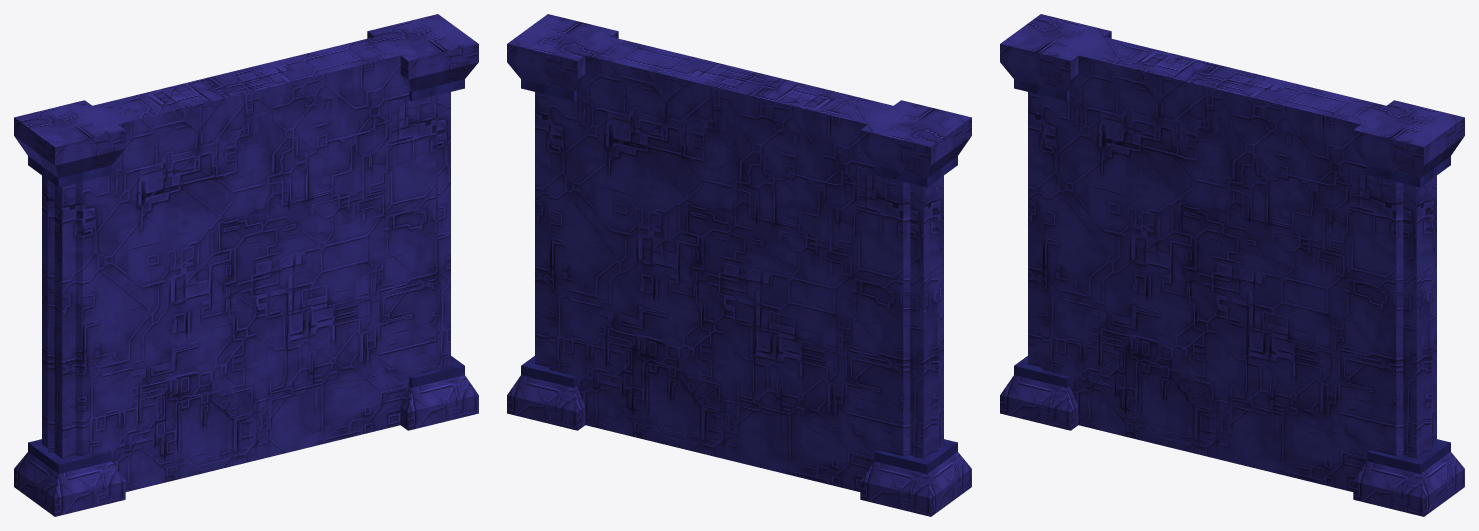
File: wall.glb
3 renders of one model, left to right at view 1: azimuth 30°, elevation 25°; view 2: azimuth 150°, elevation 25°; view 3: azimuth 330°, elevation 25°, orthographic.
Visible parts, largest first — view 1: mergedBlocks(Clone); view 2: mergedBlocks(Clone); view 3: mergedBlocks(Clone).
Boxes of the visible parts, x1,y1,x2,y2 form: mergedBlocks(Clone): (14, 14, 478, 516); mergedBlocks(Clone): (507, 14, 971, 516); mergedBlocks(Clone): (1000, 14, 1464, 516).
Size of the model in its own units: 4.8 by 4 by 0.8.
Materials: 2 (2 with a texture image).
